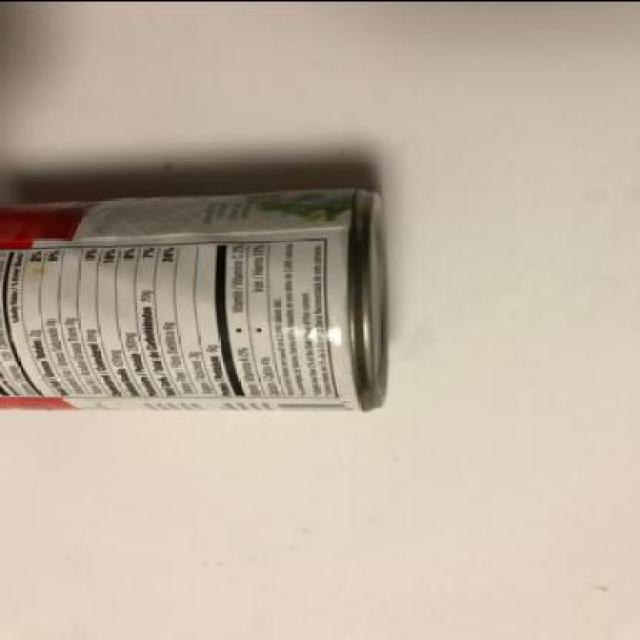METAL: (0, 186, 389, 414)
